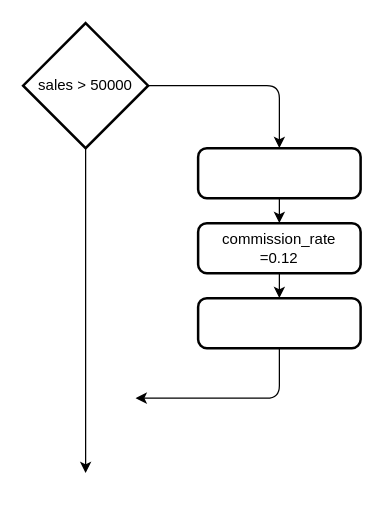
The diagram is 383 pixels wide and 505 high, and some of its shapes have lost their labels. The shapes that lost their labels are listed below. From the top down, each one's box as (x1, y1, x2, y2) in pixels, then its label:
(196, 146, 361, 199): boruns = 500.0
(196, 296, 361, 349): print('You met your quotal')
